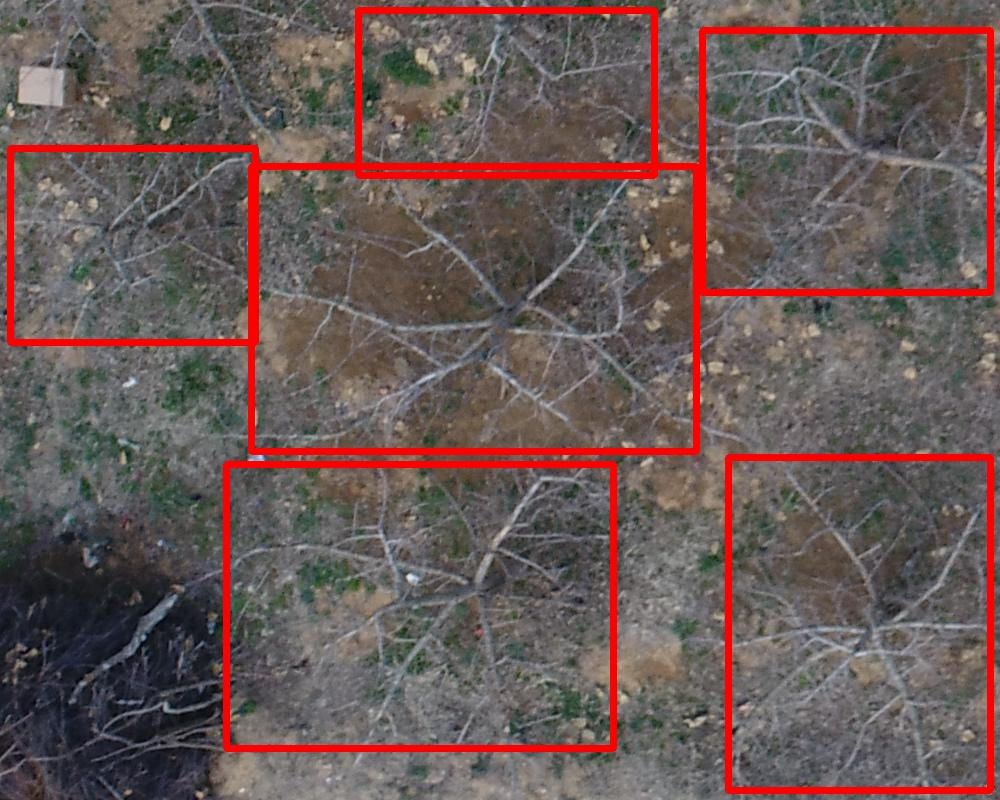apple: (251, 166, 696, 451), (226, 464, 613, 748), (728, 457, 990, 790), (702, 30, 990, 292), (358, 10, 654, 175), (10, 148, 255, 342)
